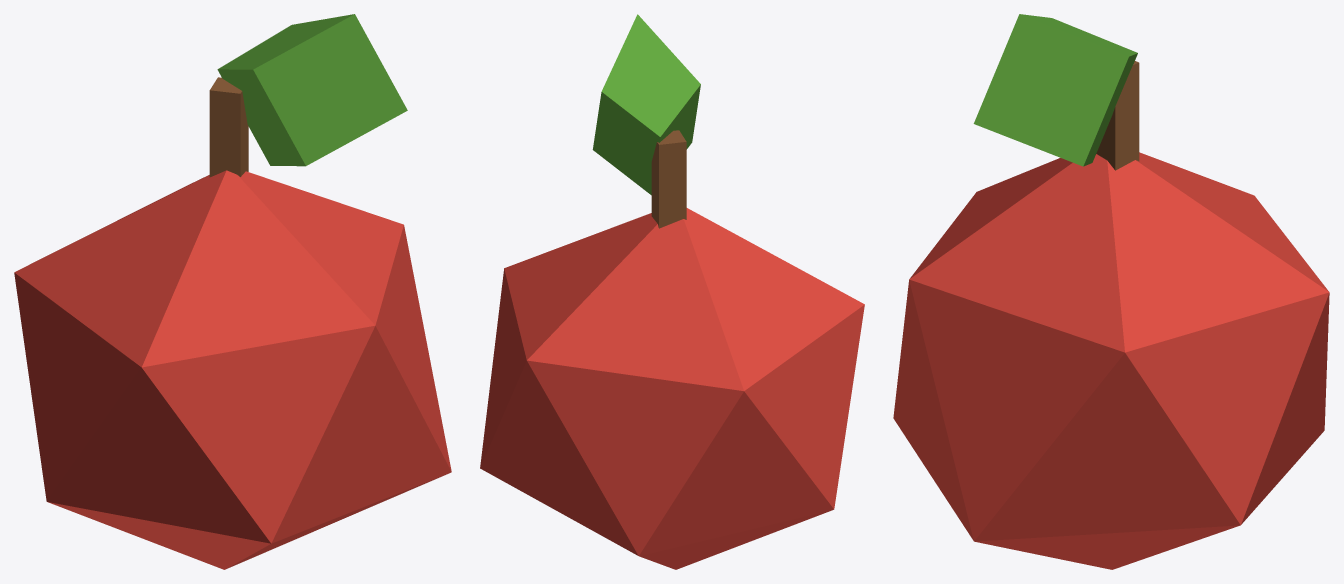
Rendered from fruit_apple.glb.
The picture shows the model from 3 angles, left to right: view 1: azimuth 30°, elevation 25°; view 2: azimuth 150°, elevation 25°; view 3: azimuth 270°, elevation 25°; orthographic projection. The views are drawn at different scales.
Parts seen in each view (by area): view 1: fruit_apple; view 2: fruit_apple; view 3: fruit_apple.
Boxes of the visible parts, x1,y1,x2,y2 form: fruit_apple: [14, 14, 451, 569]; fruit_apple: [480, 14, 864, 569]; fruit_apple: [893, 14, 1329, 569].
Size of the model in its own units: 0.0744 by 0.111 by 0.0731.
